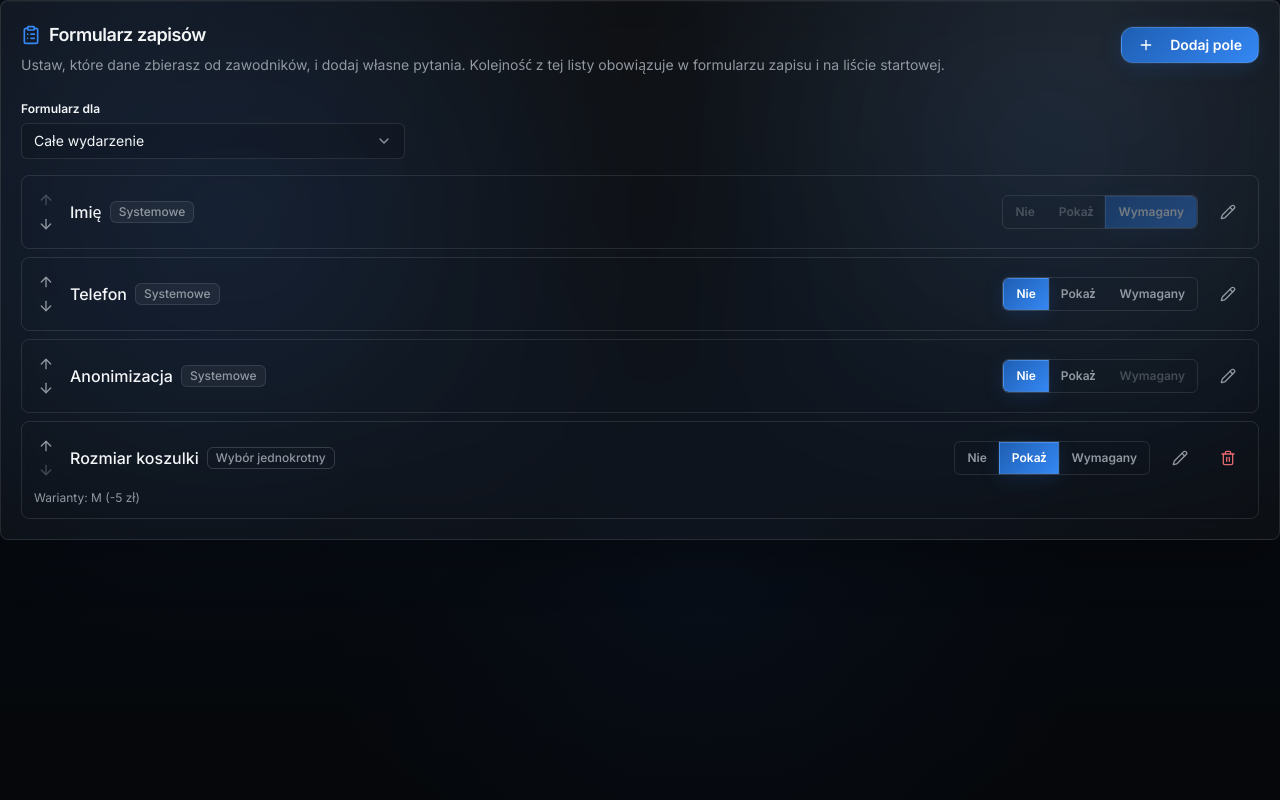
Scenario: FormFieldsTab per distance › marks inherited, overridden and distance-only fields and locks the inherited one
Click the dropdown named "Formularz dla".
click(89, 140)  # box x1=21 y1=123 x2=405 y2=159
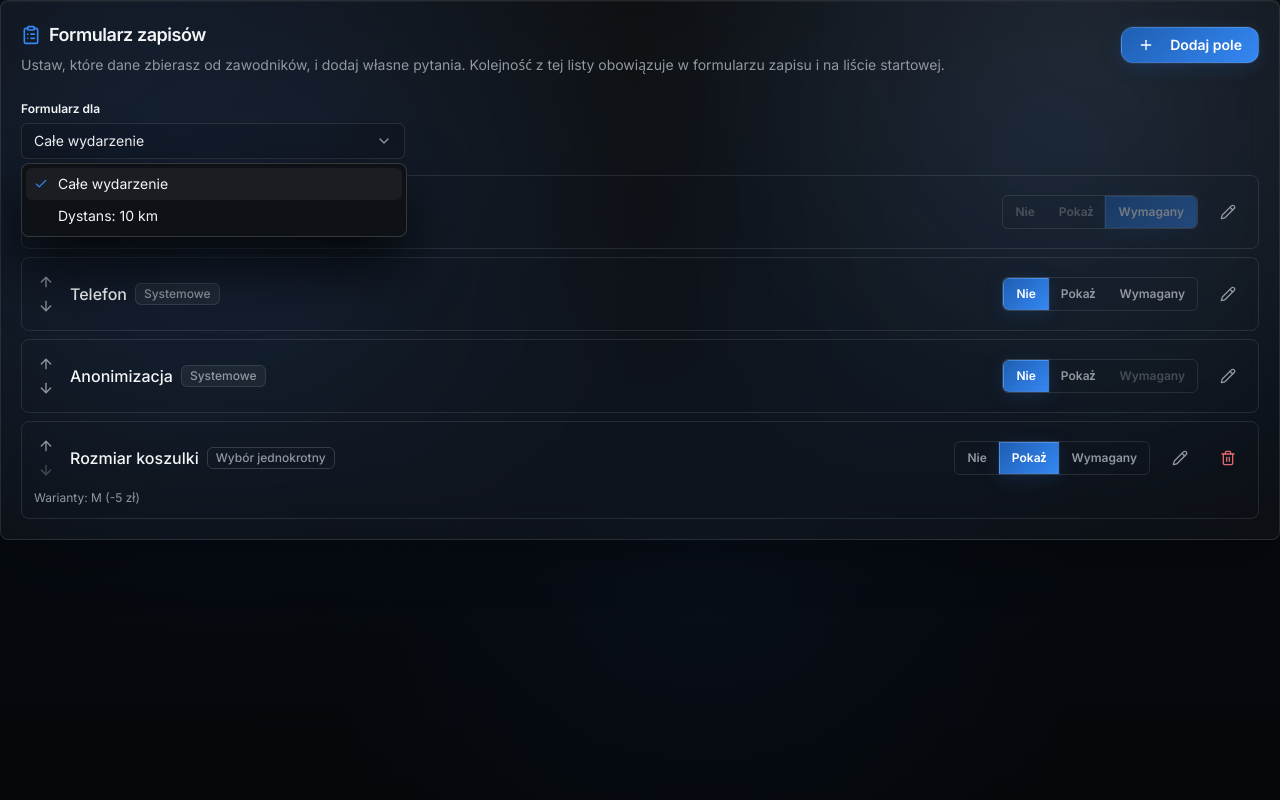
Click the option "Dystans: 10 km".
click(108, 216)  # box x1=58 y1=207 x2=158 y2=224
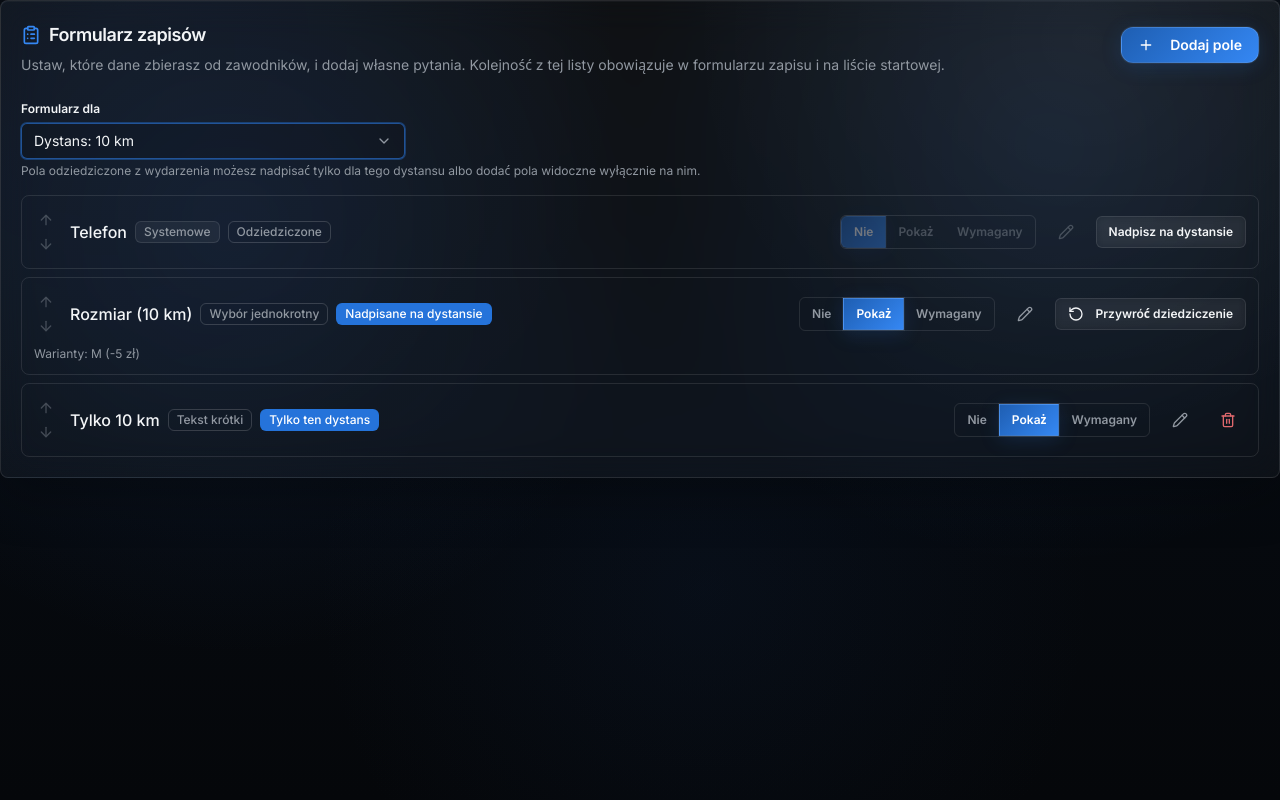
Check: the text "Tylko 10 km" is shown, box x1=70 y1=408 x2=160 y2=432
Check: the text "Odziedziczone" is shown, box x1=228 y1=221 x2=331 y2=243
Check: the text "Nadpisane na dystansie" is shown, box x1=336 y1=303 x2=492 y2=325
